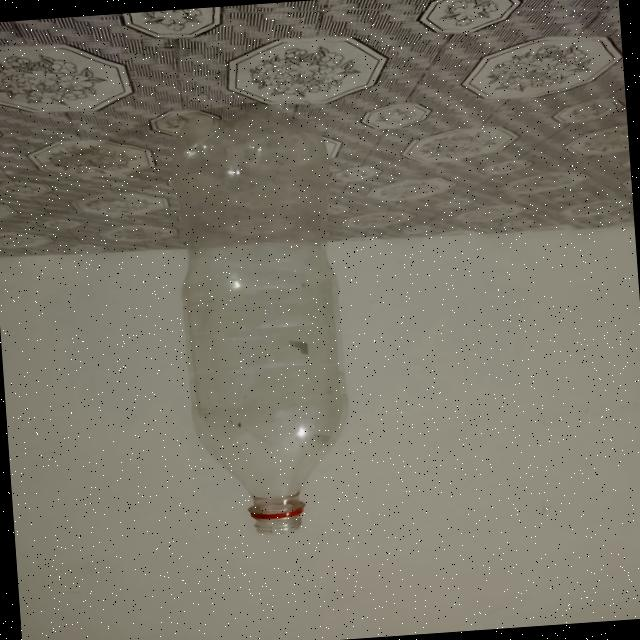bottle: (158, 101, 362, 541)
